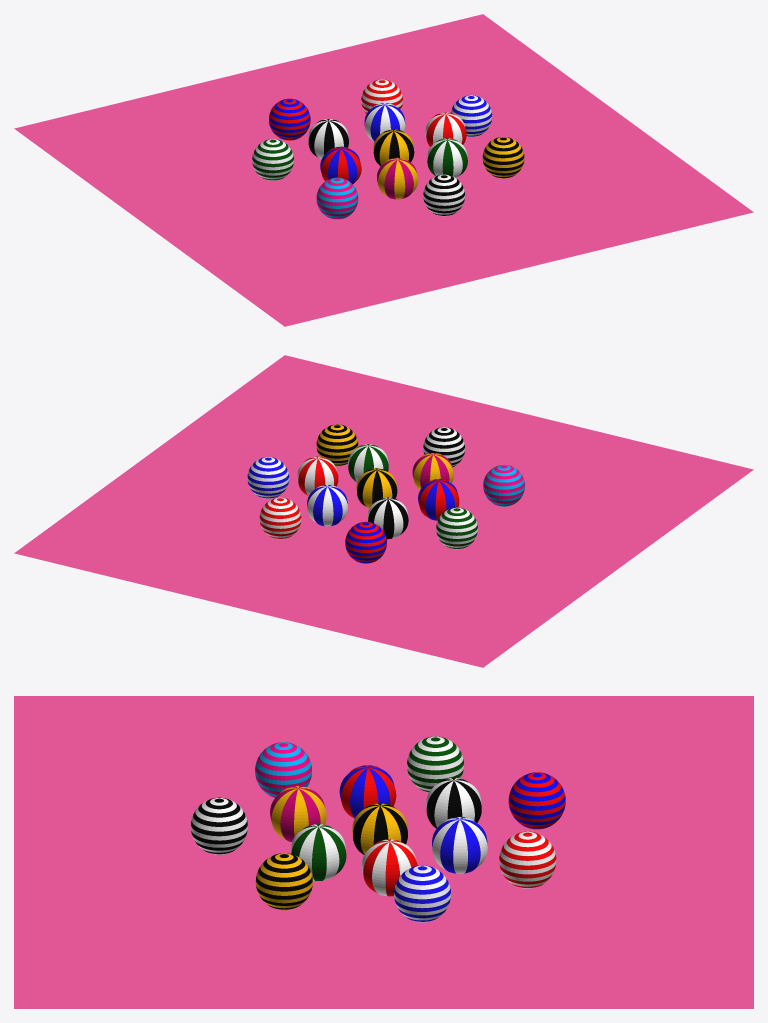
Rendered from balls.obj.
The picture shows the model from 3 angles, top to bottom: view 1: azimuth 30°, elevation 25°; view 2: azimuth 150°, elevation 25°; view 3: azimuth 270°, elevation 25°; orthographic projection. The views are drawn at different scales.
Parts seen in each view (by area): view 1: Plane.002, Sphere.010_Sphere.011, Sphere.005_Sphere.010, Sphere.007, Sphere.008, Sphere.013_Sphere.014, Sphere.011_Sphere.012, Sphere.012_Sphere.013, Sphere.006, Sphere, Sphere.002, Sphere.004_Sphere.005 (+3 smaller); view 2: Plane.002, Sphere.006, Sphere.009, Sphere.013_Sphere.014, Sphere.007, Sphere.010_Sphere.011, Sphere.001, Sphere.005_Sphere.010, Sphere, Sphere.002, Sphere.004_Sphere.005, Sphere.003 (+3 smaller); view 3: Plane.002, Sphere.009, Sphere.007, Sphere.005_Sphere.010, Sphere.006, Sphere.008, Sphere.001, Sphere.010_Sphere.011, Sphere.013_Sphere.014, Sphere.012_Sphere.013, Sphere.011_Sphere.012, Sphere.003 (+3 smaller).
Part boxes in pixels (<box>): Plane.002: <box>14,14,753,326</box>; Sphere.010_Sphere.011: <box>316,177,358,219</box>; Sphere.005_Sphere.010: <box>482,137,524,178</box>; Sphere.007: <box>269,98,310,140</box>; Sphere.008: <box>423,174,464,216</box>; Sphere.013_Sphere.014: <box>252,139,293,180</box>; Sphere.011_Sphere.012: <box>377,157,418,199</box>; Sphere.012_Sphere.013: <box>427,138,467,177</box>; Sphere.006: <box>450,95,492,136</box>; Sphere: <box>320,146,361,184</box>; Sphere.002: <box>308,119,348,159</box>; Sphere.004_Sphere.005: <box>373,129,414,166</box>; Plane.002: <box>14,355,753,667</box>; Sphere.006: <box>247,457,289,498</box>; Sphere.009: <box>259,497,301,539</box>; Sphere.013_Sphere.014: <box>436,507,477,549</box>; Sphere.007: <box>345,521,386,563</box>; Sphere.010_Sphere.011: <box>483,465,524,506</box>; Sphere.001: <box>307,484,347,526</box>; Sphere.005_Sphere.010: <box>316,424,358,466</box>; Sphere: <box>418,479,459,520</box>; Sphere.002: <box>367,497,408,539</box>; Sphere.004_Sphere.005: <box>356,468,397,508</box>; Sphere.003: <box>297,456,338,495</box>; Plane.002: <box>14,696,753,1008</box>; Sphere.009: <box>499,831,556,888</box>; Sphere.007: <box>508,772,565,829</box>; Sphere.005_Sphere.010: <box>255,853,312,910</box>; Sphere.006: <box>394,865,450,922</box>; Sphere.008: <box>190,797,247,854</box>; Sphere.001: <box>432,817,487,873</box>; Sphere.010_Sphere.011: <box>255,742,311,797</box>; Sphere.013_Sphere.014: <box>407,736,463,792</box>; Sphere.012_Sphere.013: <box>290,824,346,880</box>; Sphere.011_Sphere.012: <box>270,786,326,841</box>; Sphere.003: <box>361,839,417,896</box>.
Bounding box in the file's own units: 19.37 × 1.54 × 19.37.
